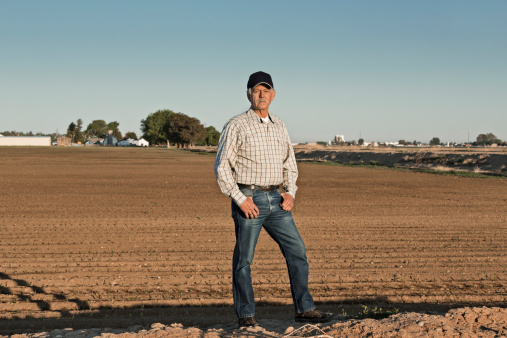em pe: (210, 67, 315, 326)
